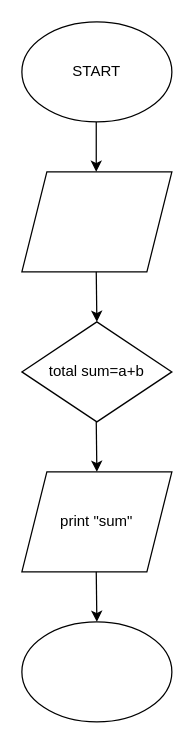
Some shapes in this 194 by 744 pixel diagram are drawn without their labels. Each missing label, with the centre of its shape:
"END" goes at (96,671).
"input a and b" goes at (96,221).
